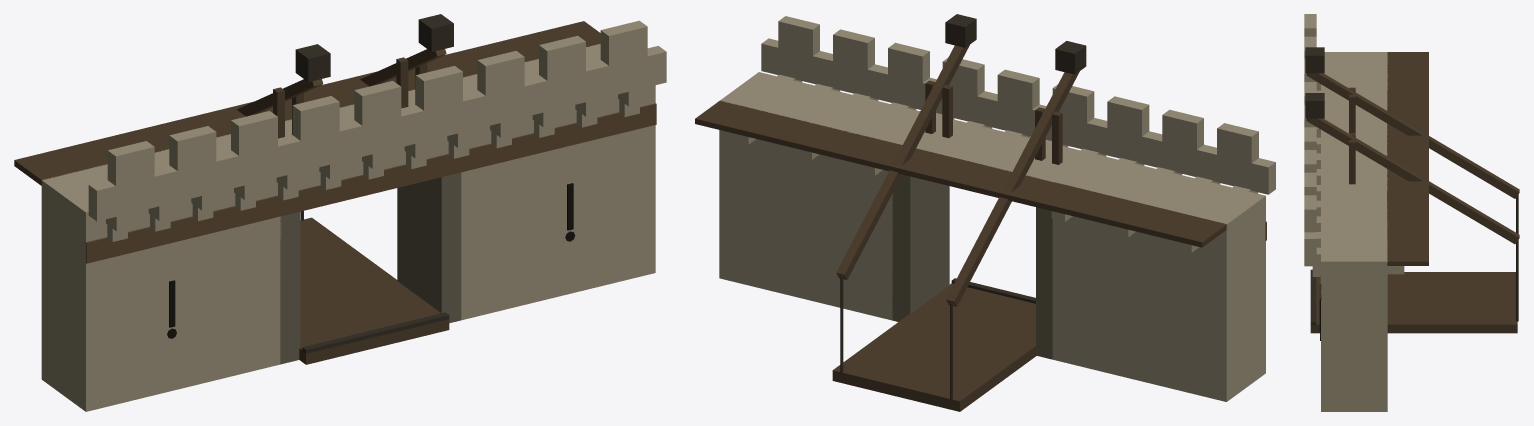
The model's file is LateDrawbridge.fbx.
3 views of the same model, side by side, from view 1: azimuth 30°, elevation 25°; view 2: azimuth 150°, elevation 25°; view 3: azimuth 270°, elevation 25° (orthographic). The views are drawn at different scales.
Visible parts, largest first — view 1: LateDrawbridge; view 2: LateDrawbridge; view 3: LateDrawbridge.
Boxes of the visible parts, <box> form: LateDrawbridge: <box>14,14,666,411</box>; LateDrawbridge: <box>695,14,1275,411</box>; LateDrawbridge: <box>1304,14,1519,411</box>.
Size of the model in its own units: 1202 by 623 by 521.
Materials: 6 (6 with a texture image).
